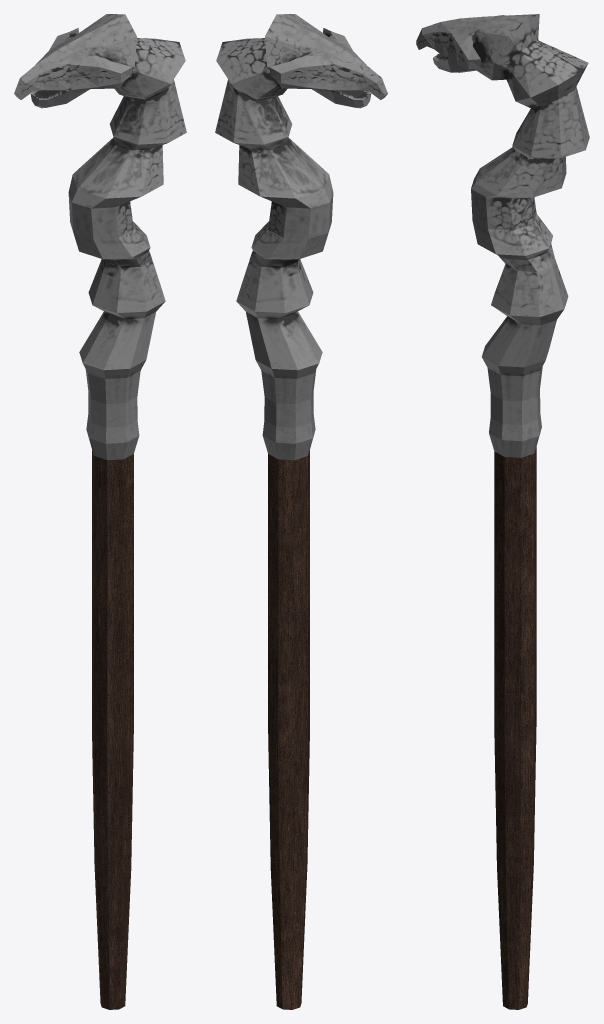
The model's file is Drake Wand.fbx.
3 views of the same model, side by side, from view 1: azimuth 30°, elevation 25°; view 2: azimuth 150°, elevation 25°; view 3: azimuth 330°, elevation 25° (orthographic).
Visible parts, largest first — view 1: Drake_Wand; view 2: Drake_Wand; view 3: Drake_Wand.
Boxes of the visible parts, x1,y1,x2,y2 form: Drake_Wand: [14, 14, 186, 1009]; Drake_Wand: [215, 14, 387, 1009]; Drake_Wand: [416, 14, 589, 1009].
Bounding box in the file's own units: 50.33 × 281 × 28.37.
